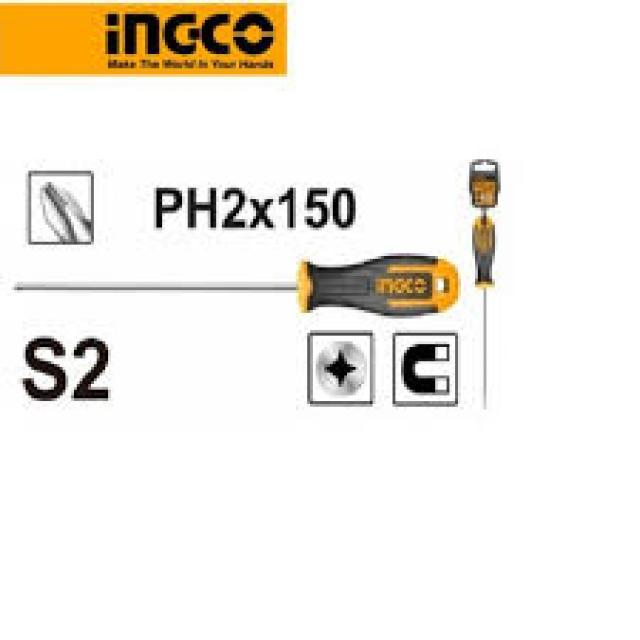screwdriver: (0, 244, 461, 322), (468, 210, 500, 418)
